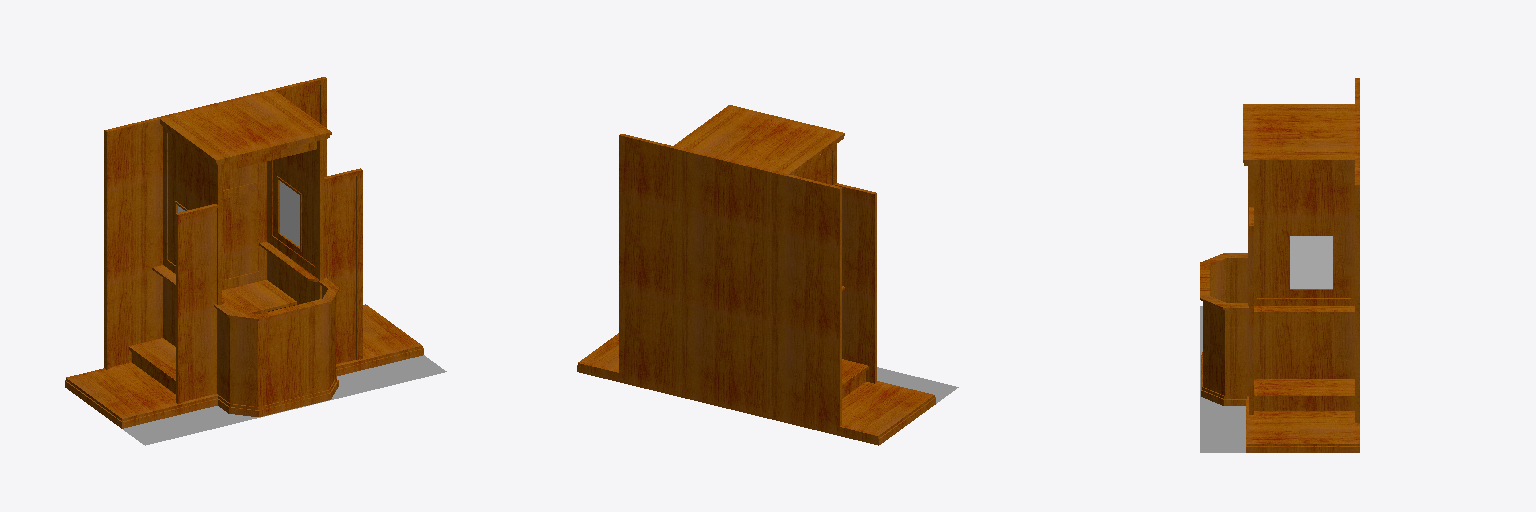
3 renders of one model, left to right at view 1: azimuth 30°, elevation 25°; view 2: azimuth 150°, elevation 25°; view 3: azimuth 270°, elevation 25°, orthographic.
Visible parts, largest first — view 1: 2, ground_1, 14, 8, 18, 6; view 2: 2, ground_1, 14; view 3: 2, 12, ground_1, 18.
Part boxes in pixels (x1,y1,x2,y2): 2: (65, 77, 423, 428); ground_1: (123, 355, 446, 445); 14: (167, 133, 213, 265); 8: (272, 150, 314, 266); 18: (280, 181, 299, 246); 6: (223, 164, 258, 190); 2: (577, 105, 935, 445); ground_1: (877, 367, 958, 403); 14: (798, 151, 832, 184); 2: (1200, 78, 1359, 452); 12: (1257, 171, 1350, 298); ground_1: (1200, 306, 1245, 452); 18: (1290, 236, 1332, 288).
Size of the model in its own units: 306 by 239 by 140.
Materials: 4 (1 with a texture image).